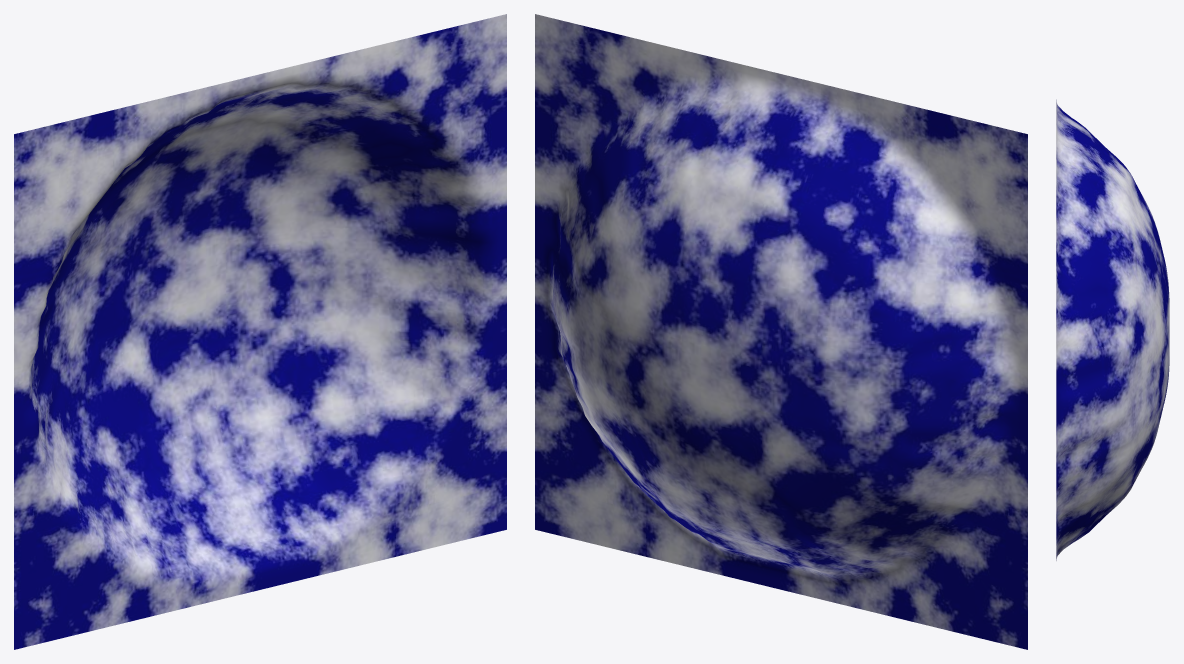
Rendered from skyDome.fbx.
3 renders of one model, left to right at view 1: azimuth 30°, elevation 25°; view 2: azimuth 150°, elevation 25°; view 3: azimuth 270°, elevation 25°, orthographic. The views are drawn at different scales.
Parts seen in each view (by area): view 1: Plane; view 2: Plane; view 3: Plane.
Part boxes in pixels (x1,y1,x2,y2): Plane: [14, 14, 506, 649]; Plane: [535, 14, 1027, 649]; Plane: [1056, 99, 1169, 560].
Size of the model in its own units: 260 by 260 by 61.51.
Materials: 1 (1 with a texture image).
